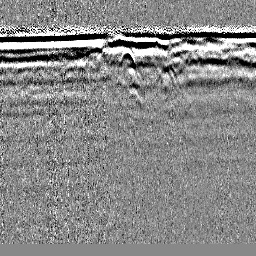cavity: (119, 46, 136, 67)
